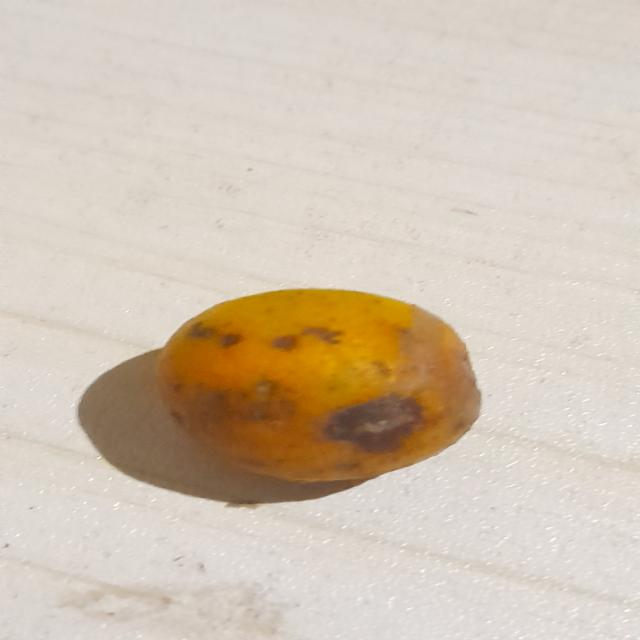black spot: (151, 290, 484, 494)
